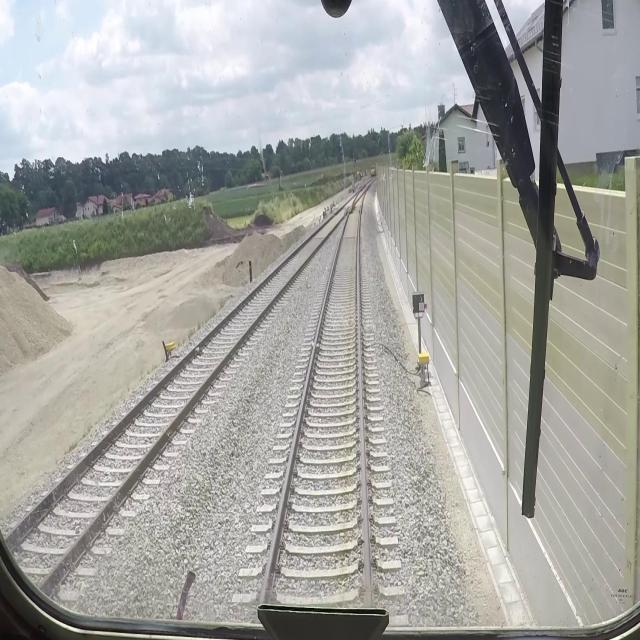rail-track: (50, 193, 357, 535), (269, 176, 376, 585)
